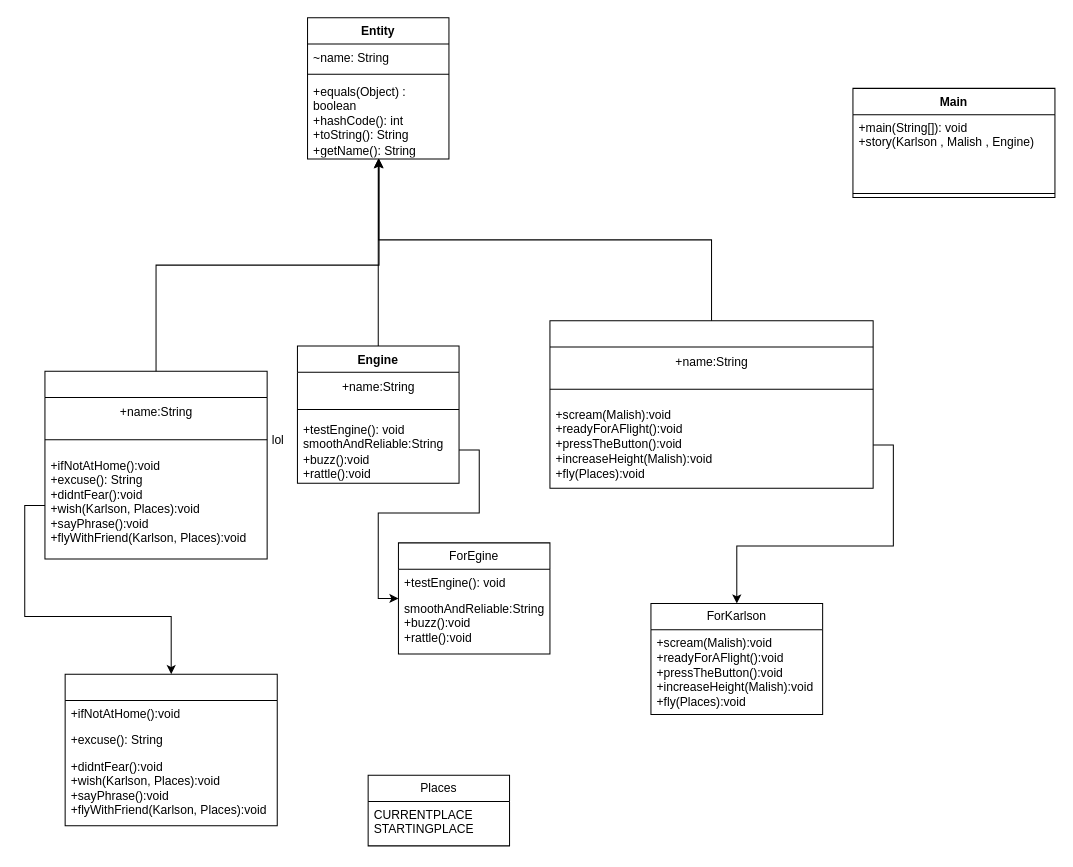
Some shapes in this 1073 by 867 pixel diagram are drawn without their labels. The box of each missing label's shape, as (x1, y1, x2, y2) in pixels:
ForMalish: (64, 673, 277, 826)
Karlson: (549, 320, 873, 488)
Malish: (44, 370, 267, 559)
